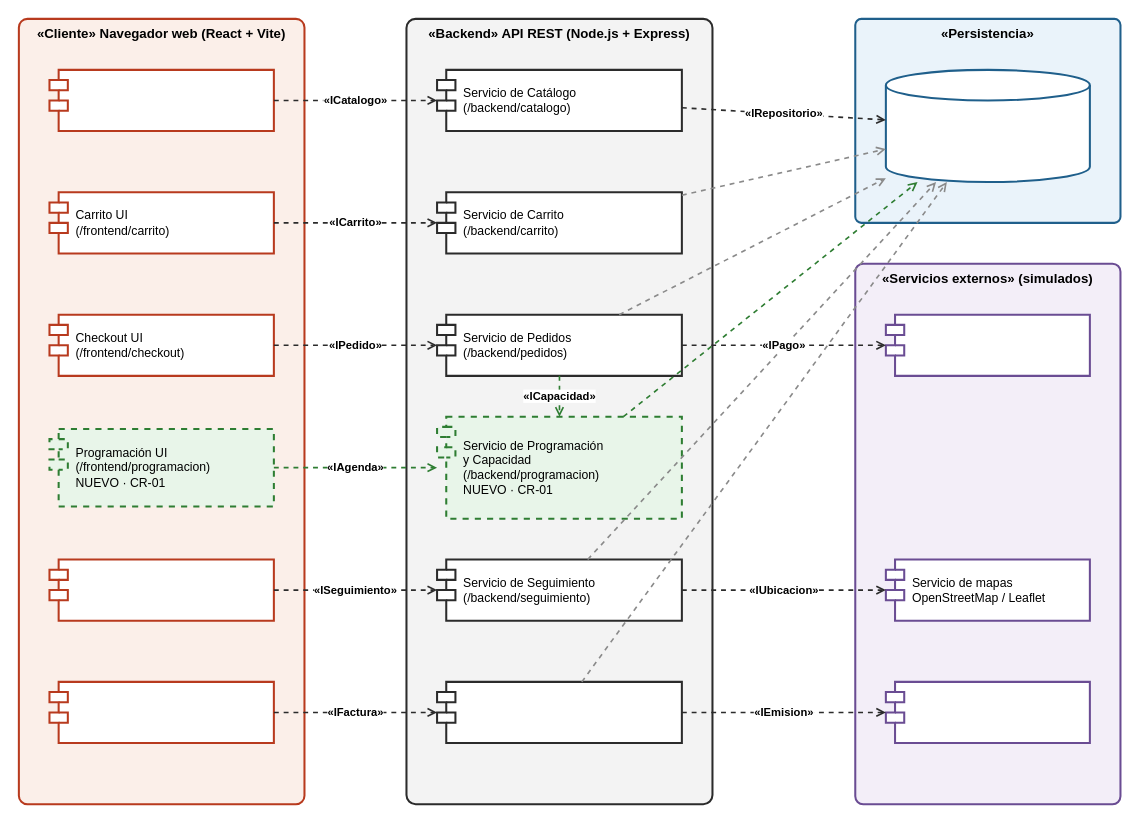
Image size: 1138x822. Some labels were removed from this diagram. Here are the shapes that lost their labels. From the top down, the centre of each, then its label:
At point (161, 100): "Catálogo UI (/frontend/catalogo)".
At point (987, 125): "Base de datos SQLite".
At point (987, 344): "Pasarela de pago (mock)".
At point (161, 589): "Seguimiento UI (/frontend/seguimiento)".
At point (161, 712): "Facturación UI (/frontend/factura)".
At point (559, 712): "Servicio de Facturación (/backend/facturacion)".
At point (987, 712): "Emisor de comprobantes (mock)".
